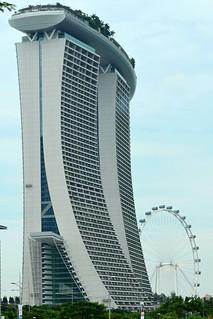building: (4, 2, 164, 316)
